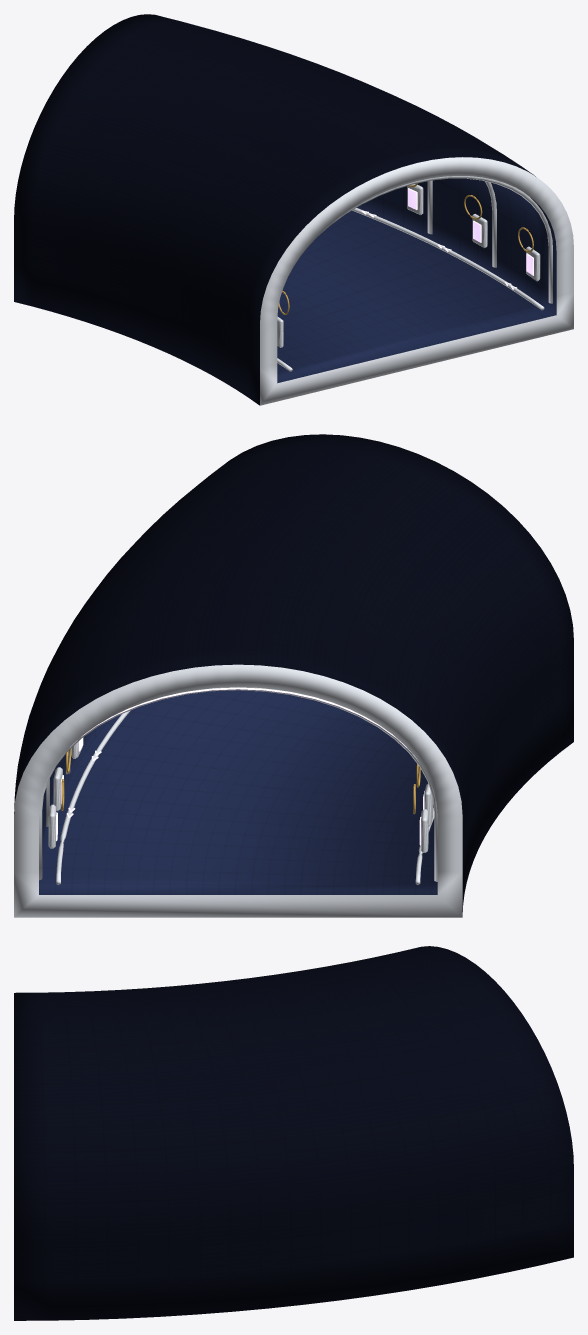
The model's file is curve_left_30_lod1.glb.
The picture shows the model from 3 angles, top to bottom: view 1: azimuth 30°, elevation 25°; view 2: azimuth 150°, elevation 25°; view 3: azimuth 270°, elevation 25°; orthographic projection. The views are drawn at different scales.
Parts seen in each view (by area): view 1: TunnelGeometry.001; view 2: TunnelGeometry.001; view 3: TunnelGeometry.001.
Boxes of the visible parts, left/top/right/bottom form: TunnelGeometry.001: left=14, top=14, right=573, bottom=405; TunnelGeometry.001: left=14, top=434, right=573, bottom=917; TunnelGeometry.001: left=14, top=946, right=573, bottom=1320.
Bounding box in the file's own units: 19.1 × 9.52 × 21.83.
Materials: 5 (2 with a texture image).
